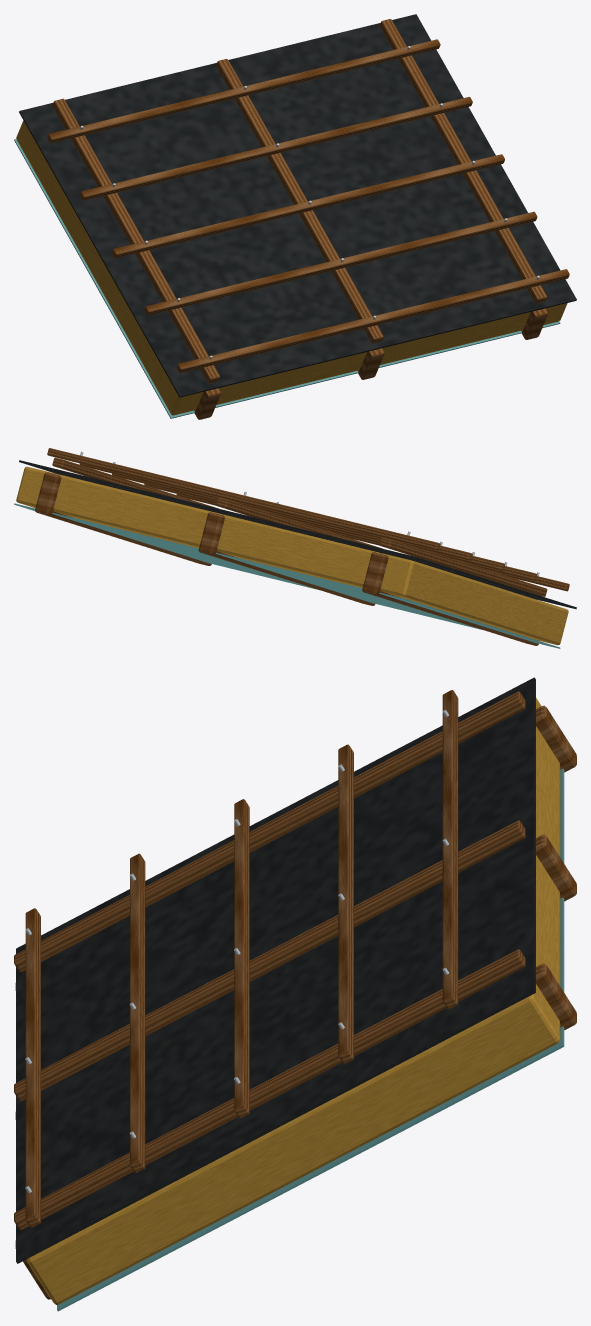
Rendered from modell.glb.
3 renders of one model, top to bottom at view 1: azimuth 30°, elevation 25°; view 2: azimuth 150°, elevation 25°; view 3: azimuth 270°, elevation 25°, orthographic. The views are drawn at different scales.
Visible parts, largest first — view 1: g03-zusatzebene_zusatzebene, g03-lattung_lattung, g03-anschluss_daemmung, g03-daemmung_daemmung, g03-luftdichtheit_luftdichtheit, g03-sparren_tragwerk; view 2: g03-daemmung_daemmung, g03-lattung_lattung, g03-anschluss_daemmung, g03-sparren_tragwerk, g03-luftdichtheit_luftdichtheit, g03-zusatzebene_zusatzebene; view 3: g03-zusatzebene_zusatzebene, g03-lattung_lattung, g03-daemmung_daemmung, g03-luftdichtheit_luftdichtheit, g03-sparren_tragwerk.
Boxes of the visible parts, x1=… form: g03-zusatzebene_zusatzebene: x1=19, y1=14, x2=576, y2=397; g03-lattung_lattung: x1=47, y1=19, x2=569, y2=383; g03-anschluss_daemmung: x1=16, y1=120, x2=203, y2=415; g03-daemmung_daemmung: x1=216, y1=303, x2=567, y2=404; g03-luftdichtheit_luftdichtheit: x1=14, y1=139, x2=560, y2=418; g03-sparren_tragwerk: x1=194, y1=308, x2=547, y2=419; g03-daemmung_daemmung: x1=16, y1=466, x2=381, y2=588; g03-lattung_lattung: x1=47, y1=448, x2=569, y2=596; g03-anschluss_daemmung: x1=380, y1=553, x2=568, y2=645; g03-sparren_tragwerk: x1=35, y1=472, x2=538, y2=645; g03-luftdichtheit_luftdichtheit: x1=14, y1=503, x2=560, y2=648; g03-zusatzebene_zusatzebene: x1=19, y1=460, x2=576, y2=609; g03-zusatzebene_zusatzebene: x1=16, y1=677, x2=535, y2=1263; g03-lattung_lattung: x1=14, y1=690, x2=525, y2=1230; g03-daemmung_daemmung: x1=27, y1=726, x2=560, y2=1304; g03-luftdichtheit_luftdichtheit: x1=57, y1=768, x2=564, y2=1311; g03-sparren_tragwerk: x1=15, y1=705, x2=576, y2=1299.
Size of the model in its own units: 2.09 by 1.07 by 1.59.
5 materials, 3 textured.
